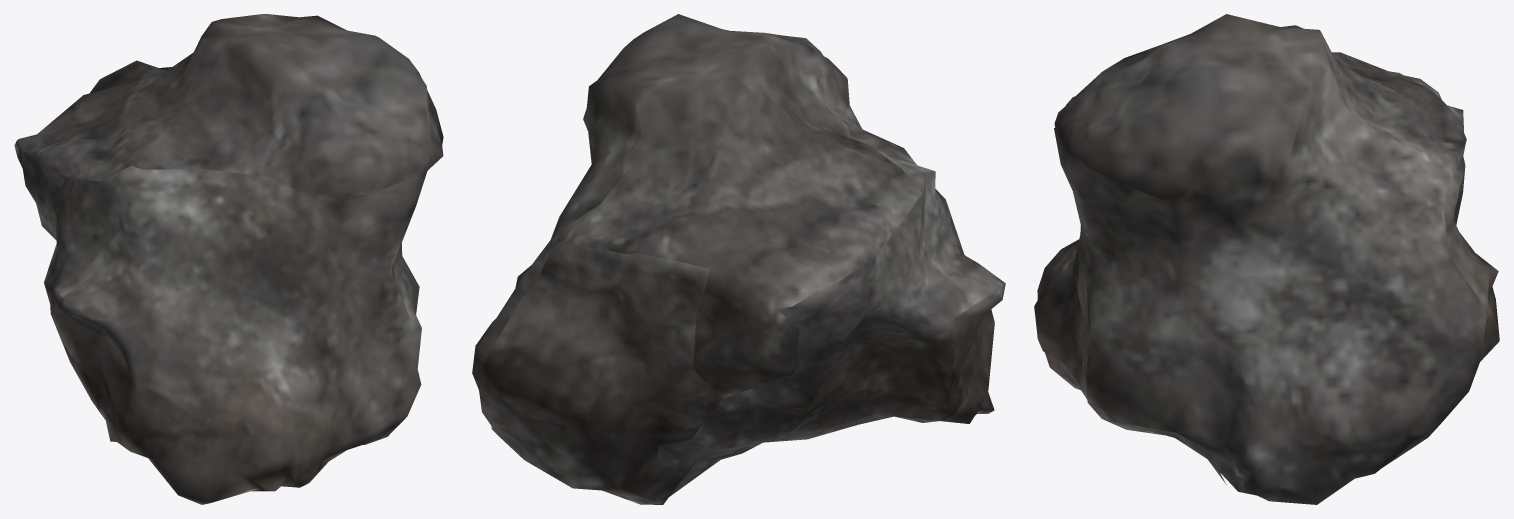
File: N_Rock_10.fbx
3 views of the same model, side by side, from view 1: azimuth 30°, elevation 25°; view 2: azimuth 150°, elevation 25°; view 3: azimuth 270°, elevation 25° (orthographic). The views are drawn at different scales.
Parts seen in each view (by area): view 1: Large_9; view 2: Large_9; view 3: Large_9.
Boxes of the visible parts, box(x1,y1,x2,y2) form: Large_9: box(14, 14, 443, 504); Large_9: box(472, 14, 1005, 504); Large_9: box(1034, 14, 1499, 504).
Bounding box in the file's own units: 286 × 296 × 293.
